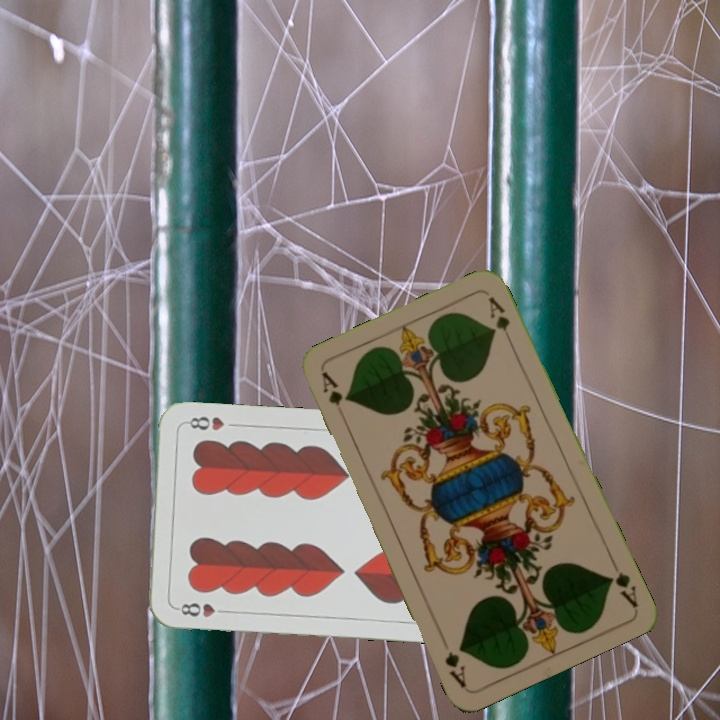GA: (604, 554, 641, 610), (317, 368, 345, 409)
H8: (172, 599, 232, 620)
